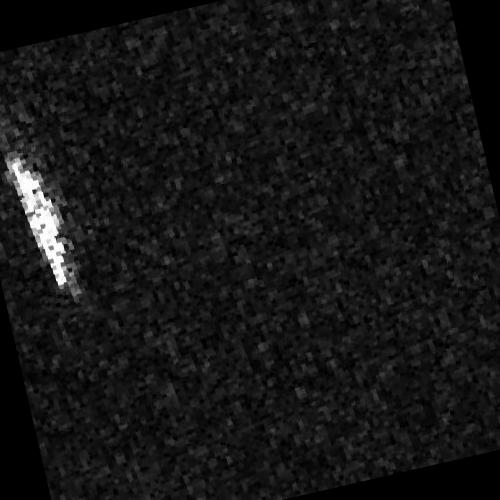ship: (7, 157, 68, 290)
